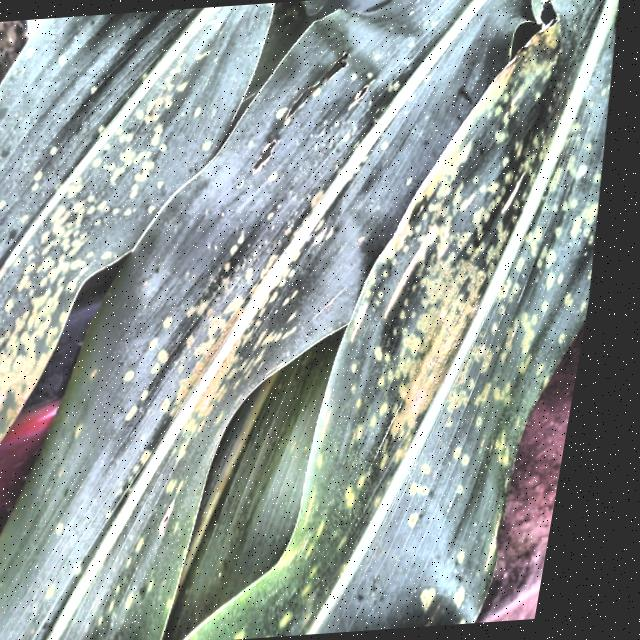common_rust: (184, 0, 612, 630)
